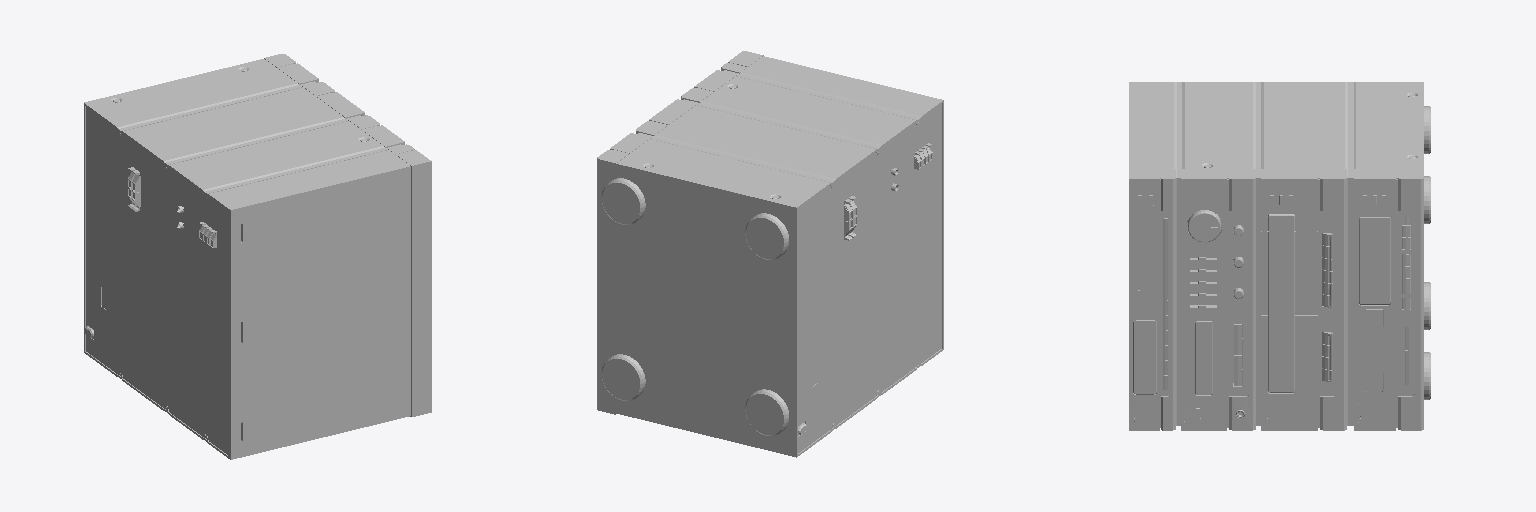
File: stereo.obj
3 views of the same model, side by side, from view 1: azimuth 30°, elevation 25°; view 2: azimuth 150°, elevation 25°; view 3: azimuth 270°, elevation 25° (orthographic).
Visible parts, largest first — view 1: model_0; view 2: model_0; view 3: model_0.
Part boxes in pixels (x1,y1,x2,y2): model_0: (84,54,431,459); model_0: (597,51,943,457); model_0: (1129,82,1430,430).
Bounding box in the file's own units: 10.11 × 11.58 × 12.62.